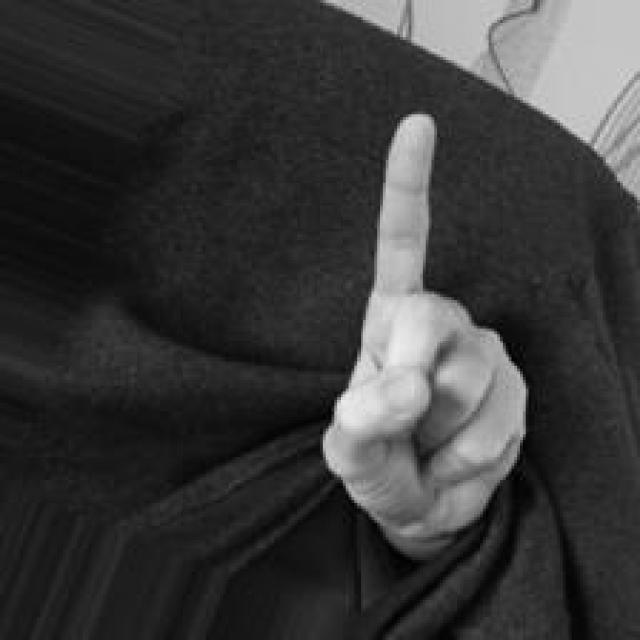I: (309, 97, 535, 570)
